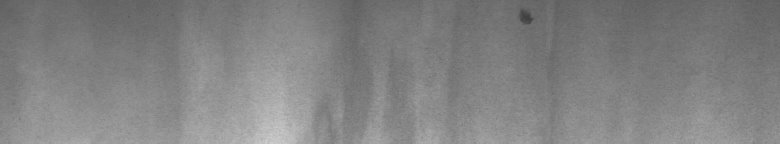fi: (513, 4, 535, 32)
